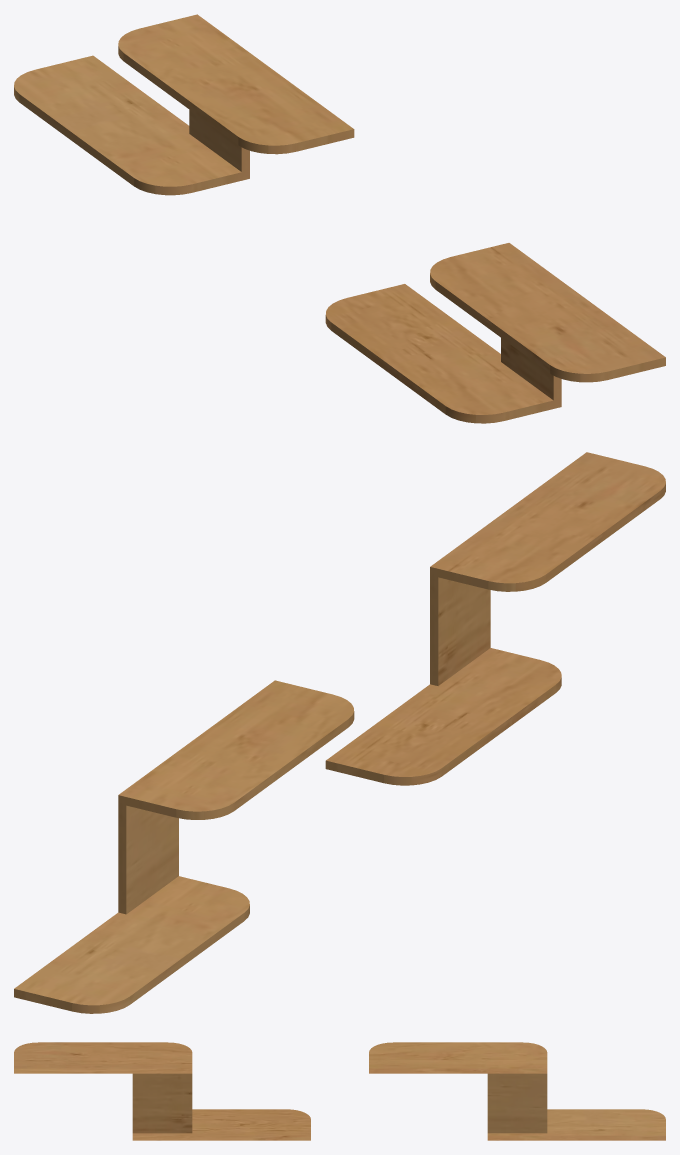
Rendered from polki1mast.fbx.
3 renders of one model, top to bottom at view 1: azimuth 30°, elevation 25°; view 2: azimuth 150°, elevation 25°; view 3: azimuth 270°, elevation 25°, orthographic. The views are drawn at different scales.
Visible parts, largest first — view 1: polki1mast; view 2: polki1mast; view 3: polki1mast.
Boxes of the visible parts, box(x1,y1,x2,y2) form: polki1mast: box(14, 14, 665, 423); polki1mast: box(14, 452, 665, 1013); polki1mast: box(14, 1042, 665, 1140).
Size of the model in its own units: 0.1405 by 0.1784 by 1.47.
